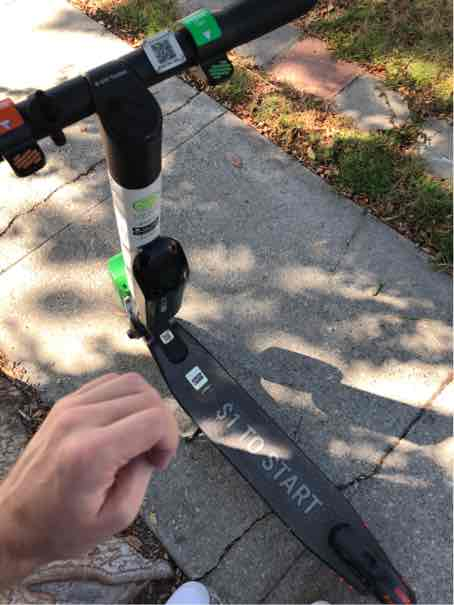scooter: (9, 11, 434, 605)
